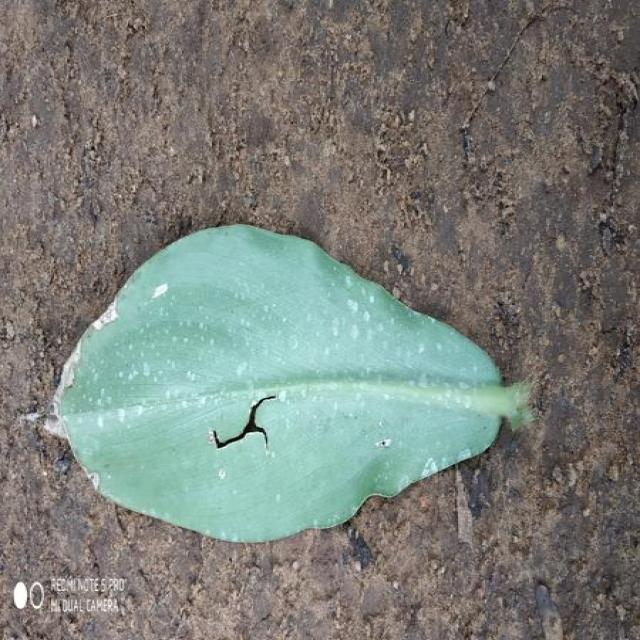insulin: (47, 225, 530, 542)
